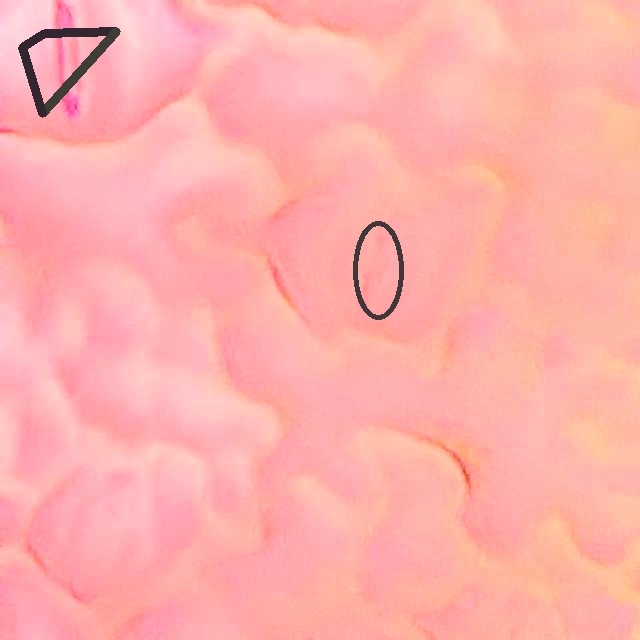close: (352, 221, 405, 319)
open: (18, 29, 120, 117)
